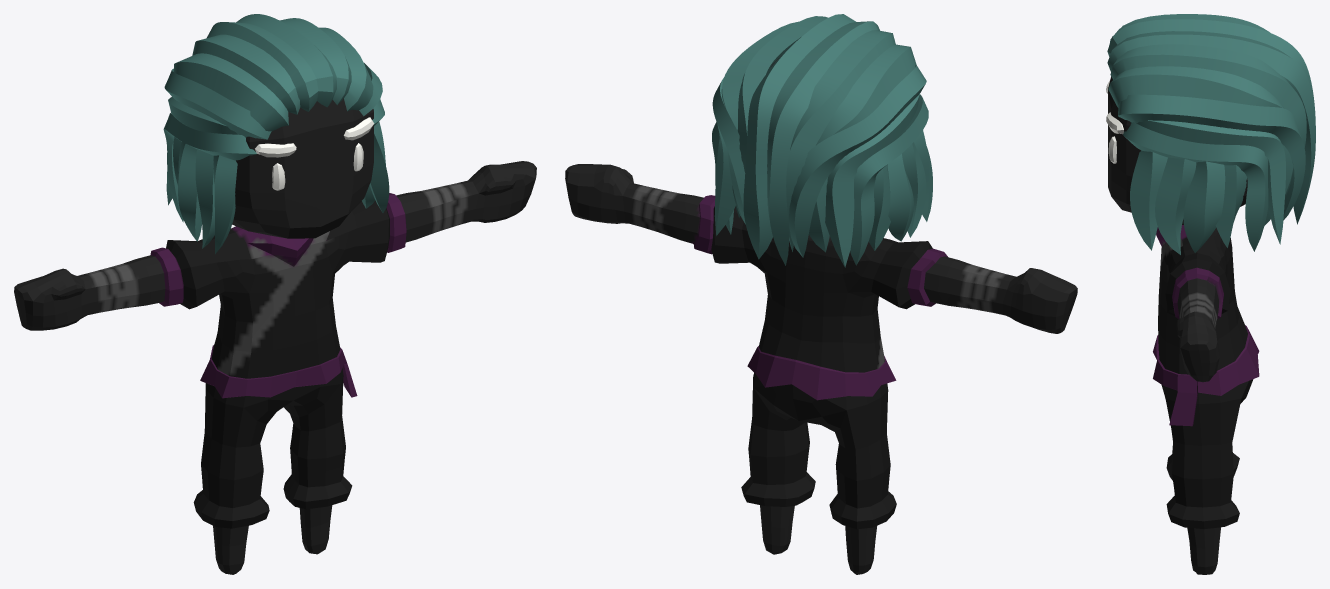
Rendered from Ninja_Male_Hair.fbx.
The picture shows the model from 3 angles, left to right: view 1: azimuth 30°, elevation 25°; view 2: azimuth 150°, elevation 25°; view 3: azimuth 270°, elevation 25°; orthographic projection.
Visible parts, largest first — view 1: Body; view 2: Body; view 3: Body.
Boxes of the visible parts, x1,y1,x2,y2 form: Body: [14, 14, 536, 574]; Body: [565, 14, 1077, 574]; Body: [1106, 14, 1315, 574].
Bounding box in the file's own units: 324 × 320 × 116.
Materials: 1 (1 with a texture image).
